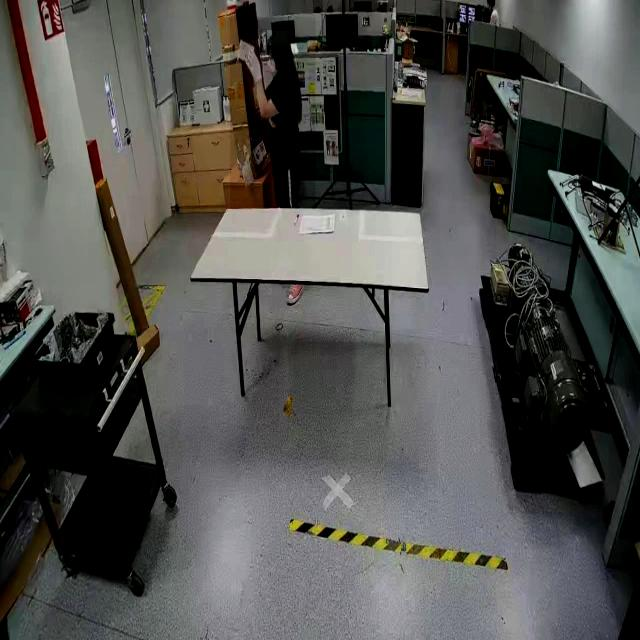head_nohelmet: (267, 30, 290, 46)
person: (230, 17, 316, 210)
